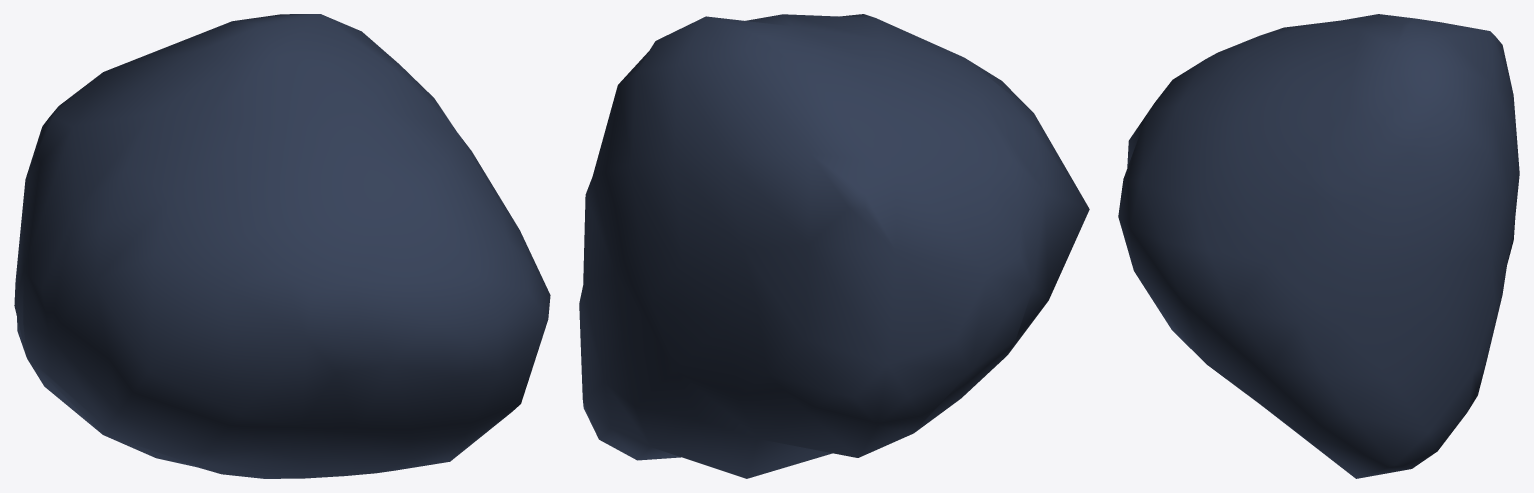
File: Rock_13.fbx
3 renders of one model, left to right at view 1: azimuth 30°, elevation 25°; view 2: azimuth 150°, elevation 25°; view 3: azimuth 270°, elevation 25°, orthographic. The views are drawn at different scales.
Parts seen in each view (by area): view 1: Rock 13; view 2: Rock 13; view 3: Rock 13.
Boxes of the visible parts, <box> form: Rock 13: <box>14,14,550,478</box>; Rock 13: <box>579,14,1089,478</box>; Rock 13: <box>1118,14,1519,478</box>.
Bounding box in the file's own units: 57.85 × 56.04 × 52.16.
